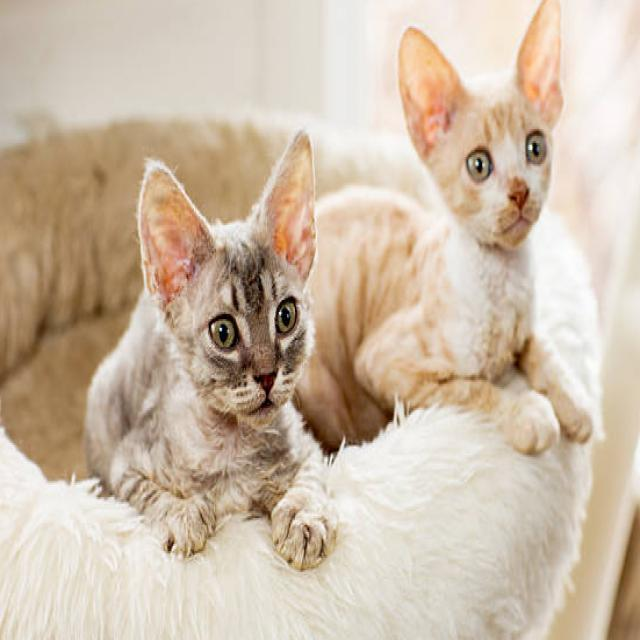Cornish Rex: (318, 0, 606, 462), (76, 120, 341, 579)
